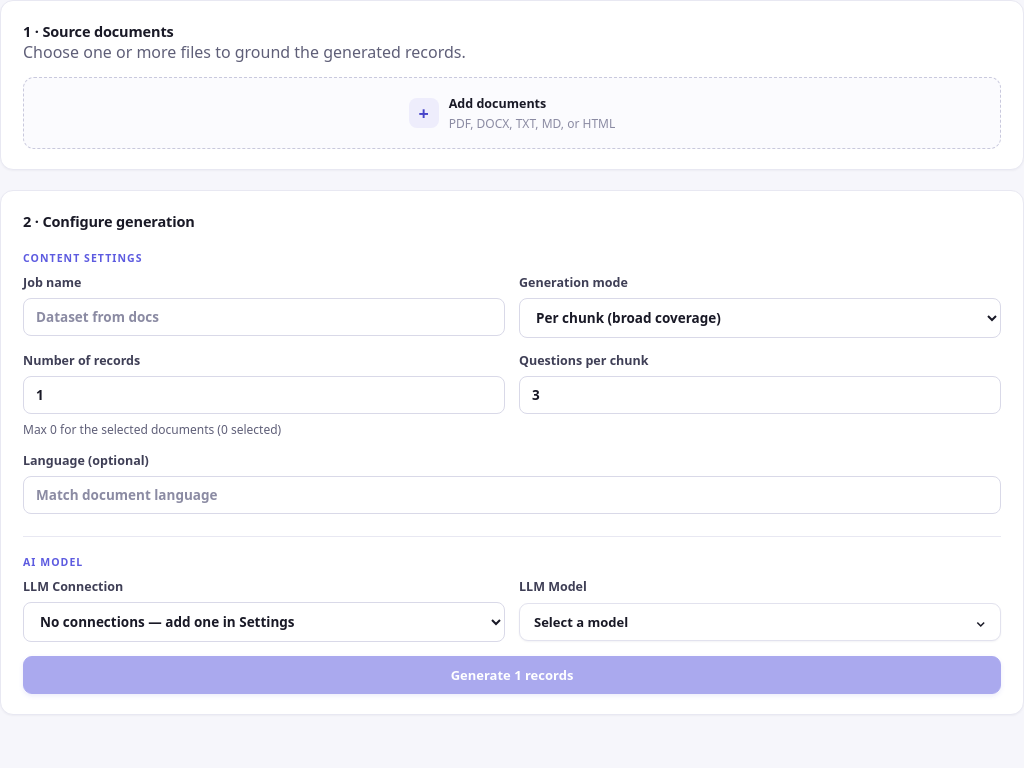
Test: GenerateWizard › shows a searchable model selector for a custom connection
Click the button named "LLM Model" at (581, 622), box [519,603,1001,641]
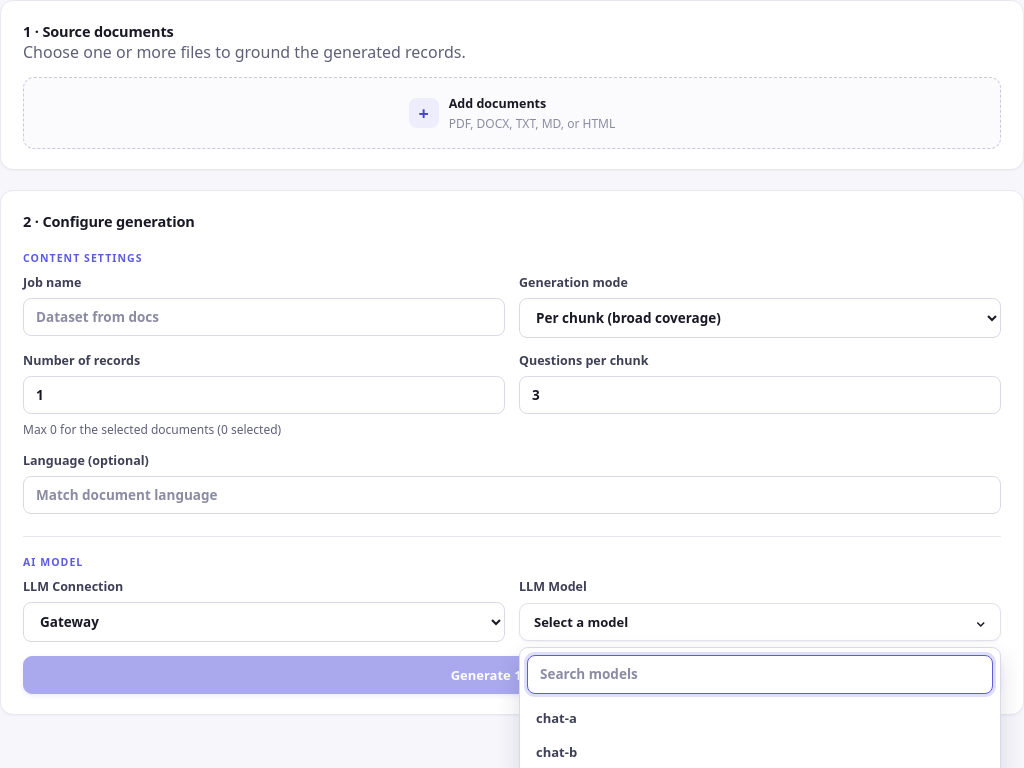
Check: the search field labelled "Search models" is shown, box [527,655,993,694]
